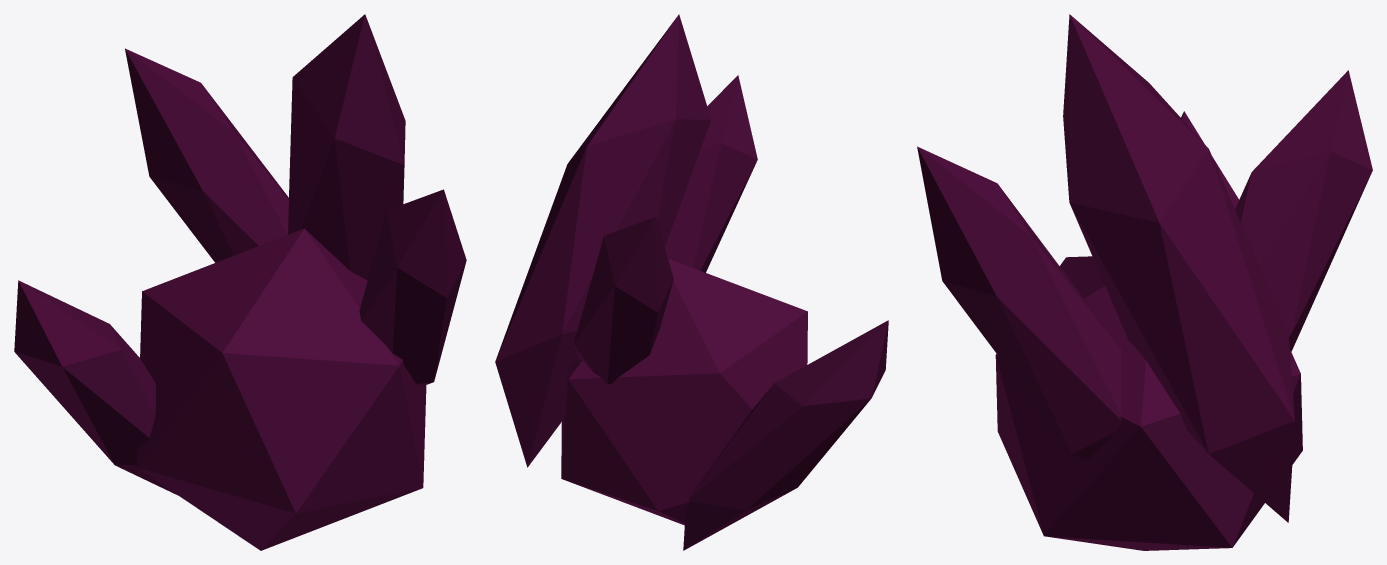
File: crystalCluster02.fbx
3 views of the same model, side by side, from view 1: azimuth 30°, elevation 25°; view 2: azimuth 150°, elevation 25°; view 3: azimuth 270°, elevation 25° (orthographic). The views are drawn at different scales.
Parts seen in each view (by area): view 1: 01- floatingCave01.001; view 2: 01- floatingCave01.001; view 3: 01- floatingCave01.001.
Boxes of the visible parts, x1=… form: 01- floatingCave01.001: x1=14, y1=14, x2=466, y2=550; 01- floatingCave01.001: x1=495, y1=14, x2=888, y2=550; 01- floatingCave01.001: x1=917, y1=14, x2=1372, y2=550.
Bounding box in the file's own units: 1043 × 1383 × 999.
